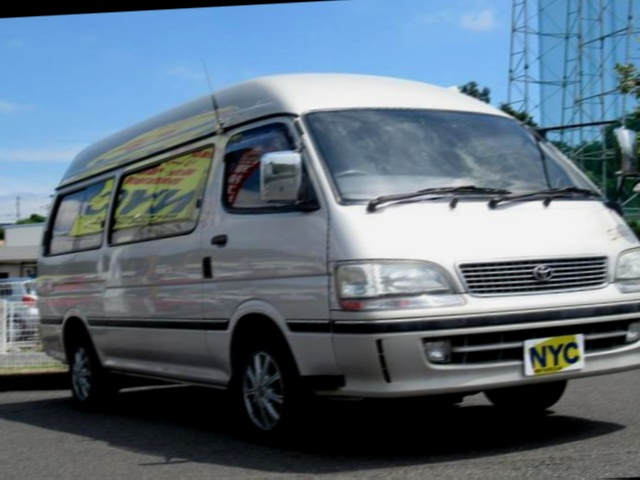van: (25, 60, 640, 438)
